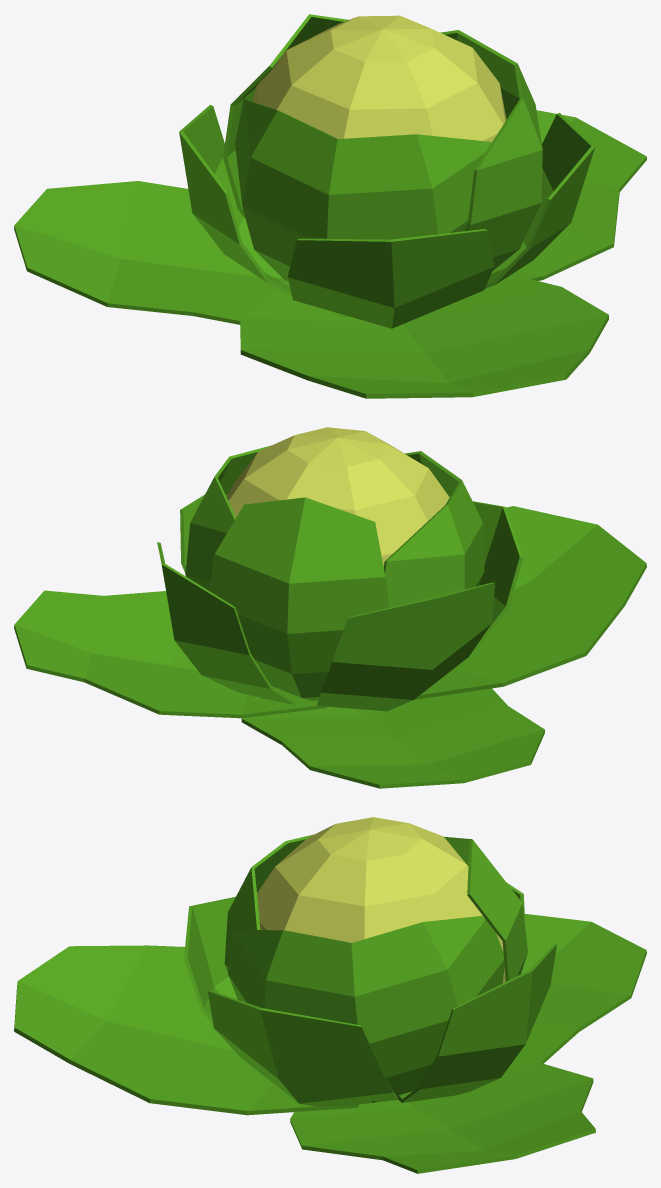
Rendered from Isl_3_Cabbage_1.fbx.
The picture shows the model from 3 angles, top to bottom: view 1: azimuth 30°, elevation 25°; view 2: azimuth 150°, elevation 25°; view 3: azimuth 270°, elevation 25°; orthographic projection. The views are drawn at different scales.
Parts seen in each view (by area): view 1: Isl_3_Cabbage_1; view 2: Isl_3_Cabbage_1; view 3: Isl_3_Cabbage_1.
Part boxes in pixels (box(x1,y1,x2,y2)): Isl_3_Cabbage_1: box(14, 14, 646, 398); Isl_3_Cabbage_1: box(14, 427, 646, 788); Isl_3_Cabbage_1: box(14, 817, 646, 1173).
Size of the model in its own units: 96.31 by 96.93 by 43.93.
Materials: 1 (1 with a texture image).
